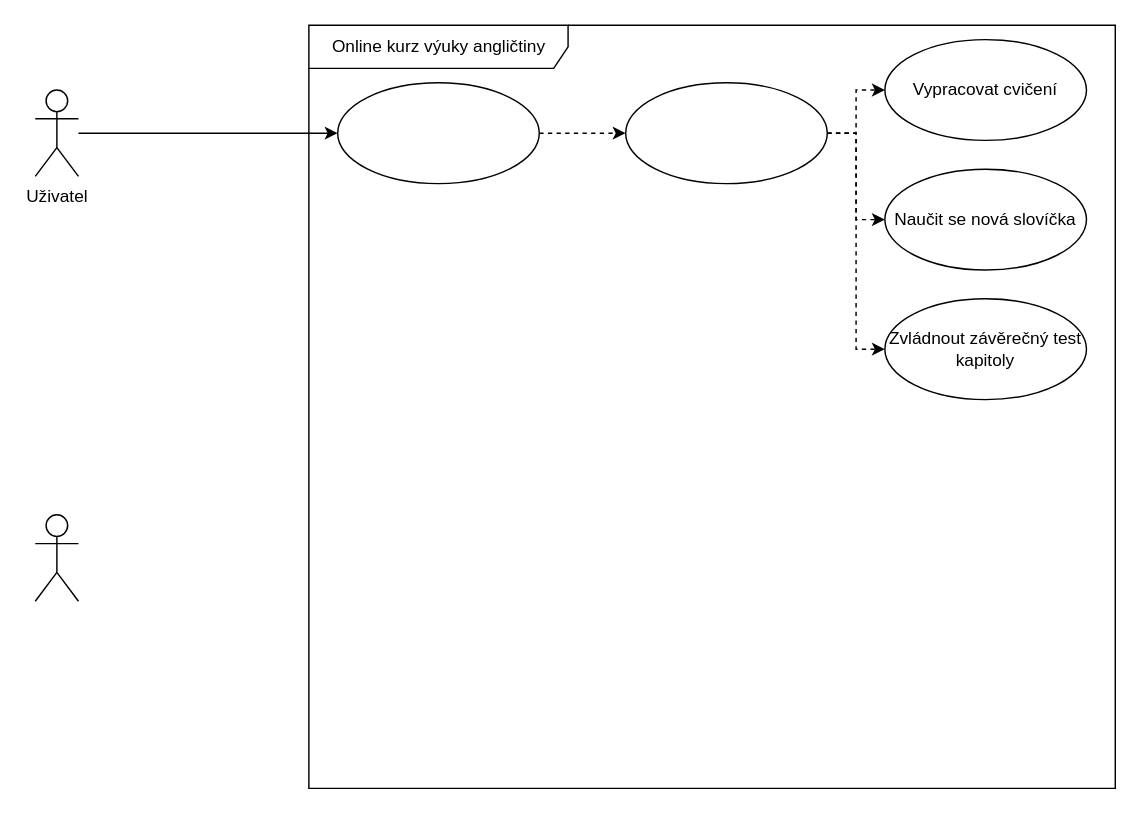
This 1140x814 diagram has some shape labels left out. Here are the shapes that lost their labels. From the top down, the centre of each, then its label:
At (437,132): "Absolvovat kurz".
At (725,132): "Absolvovat kapitolu".
At (56,557): "Správce".
